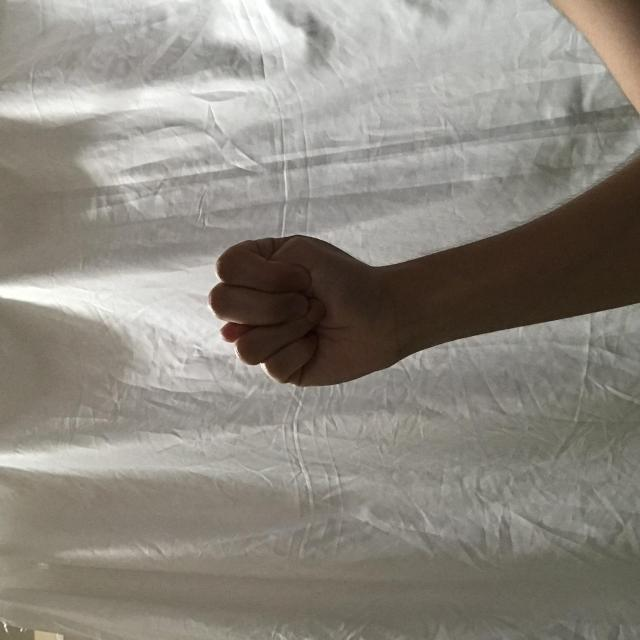N: (252, 209, 404, 381)
